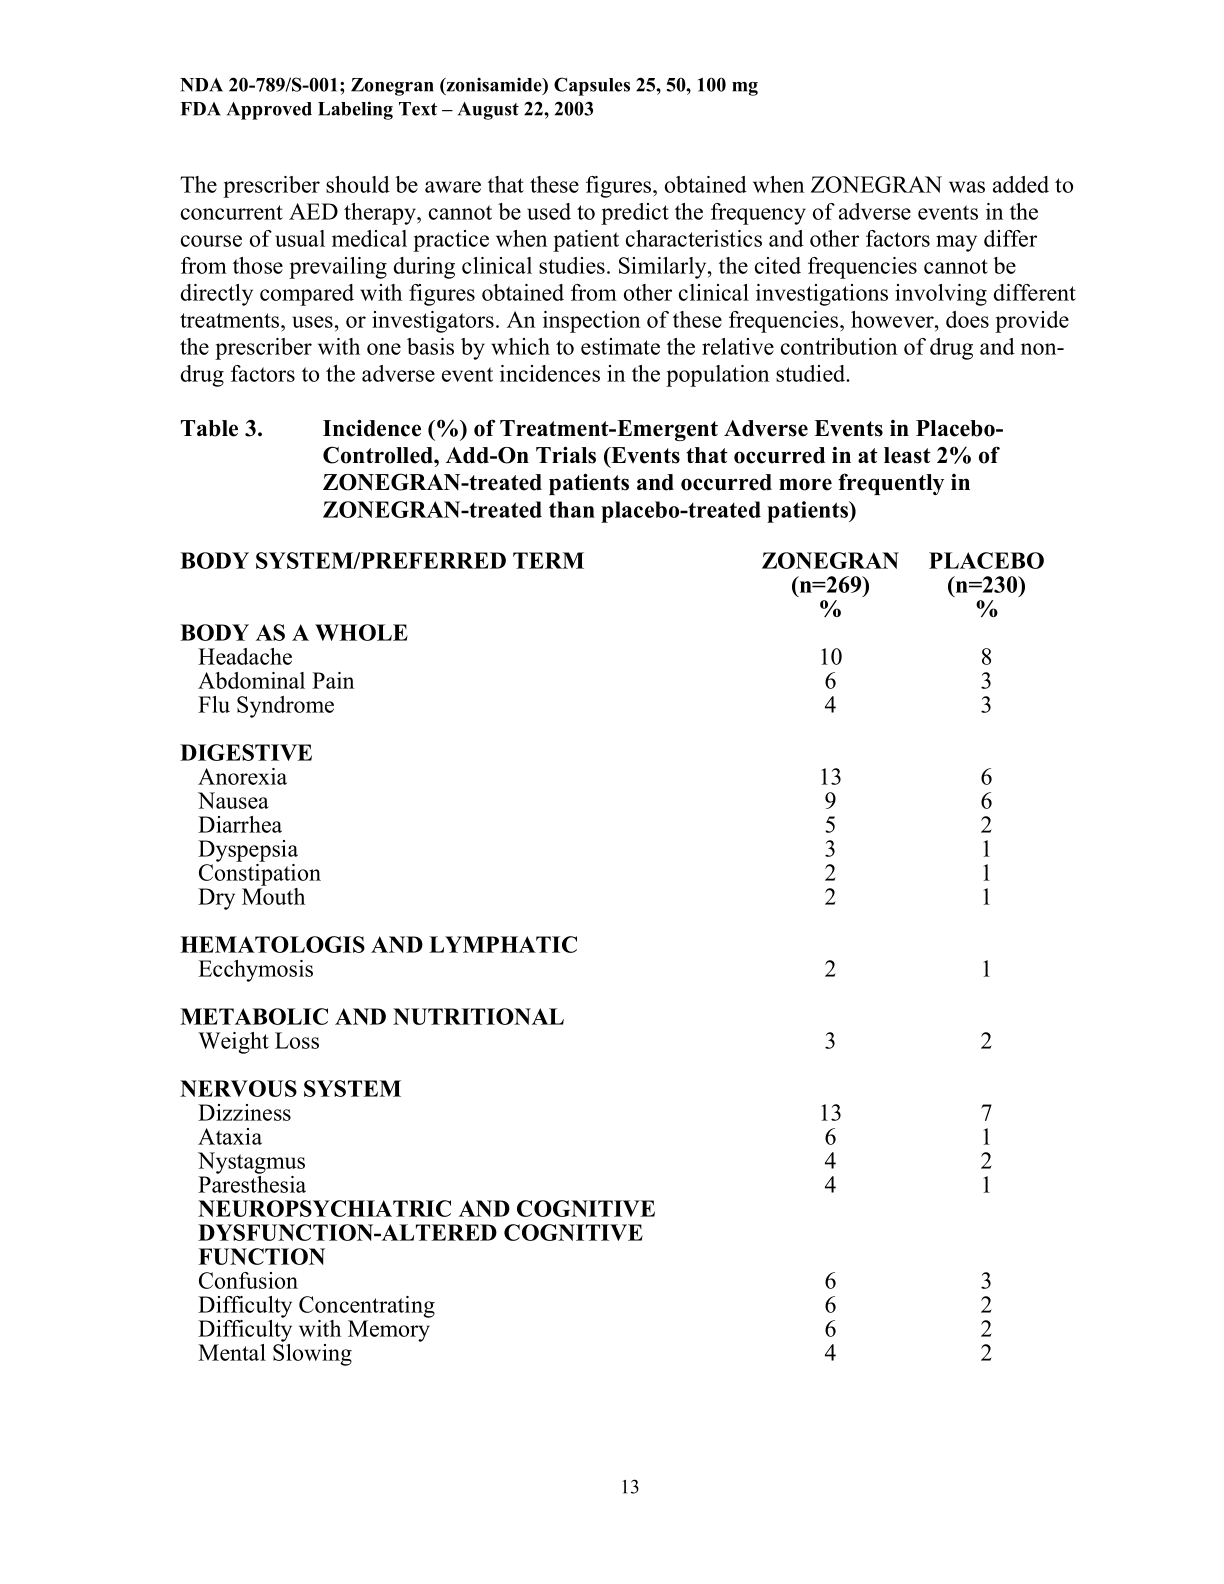nolines: (179, 549, 1047, 1371)
